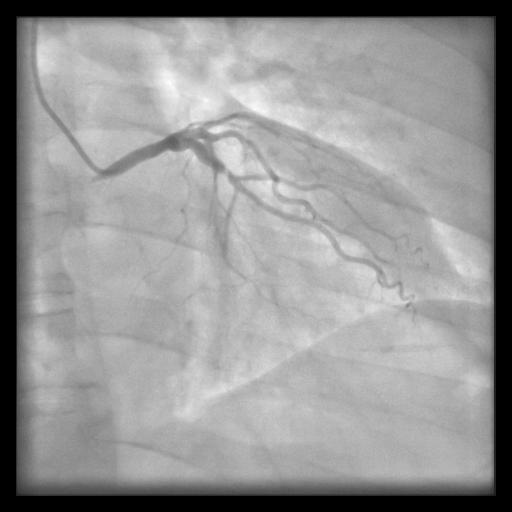Stenosis: (222, 162, 230, 179)
